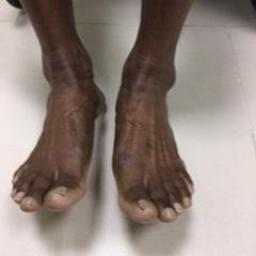Front View -Both Feet-: (5, 39, 204, 237)
